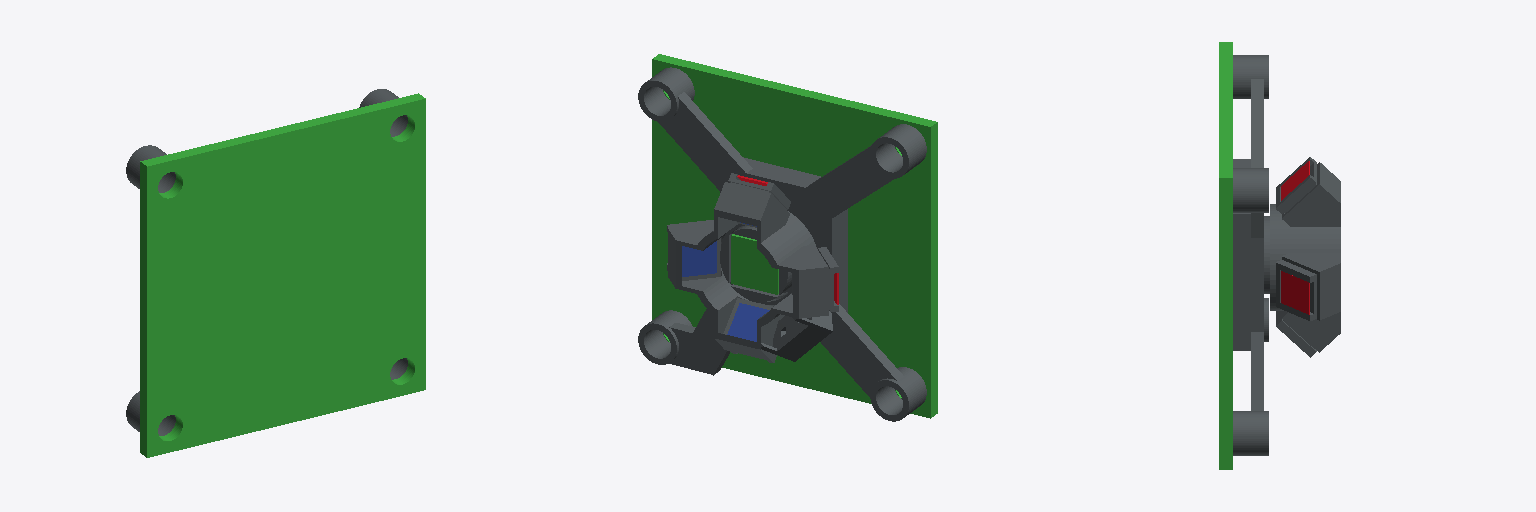
File: CM2_V2_assembly_long_WD.obj
3 renders of one model, left to right at view 1: azimuth 30°, elevation 25°; view 2: azimuth 150°, elevation 25°; view 3: azimuth 270°, elevation 25°, orthographic.
Parts seen in each view (by area): view 1: obj_0; view 2: obj_0; view 3: obj_0.
Part boxes in pixels (x1,y1,x2,y2): obj_0: (126, 89, 425, 457); obj_0: (638, 54, 937, 421); obj_0: (1219, 42, 1340, 469).
Size of the model in its own units: 36 by 36 by 13.7.